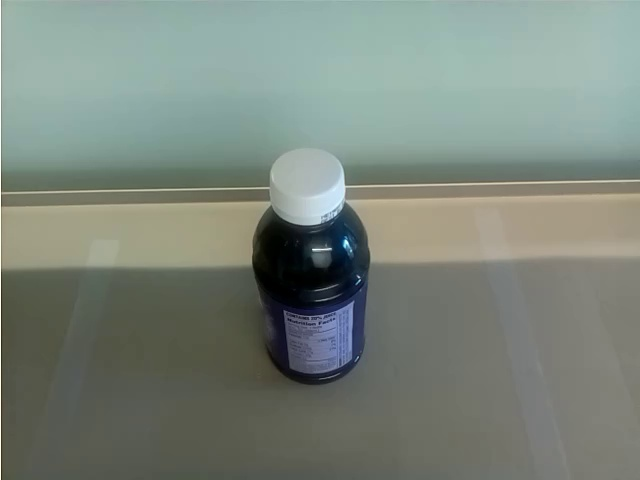juice: (249, 141, 369, 386)
